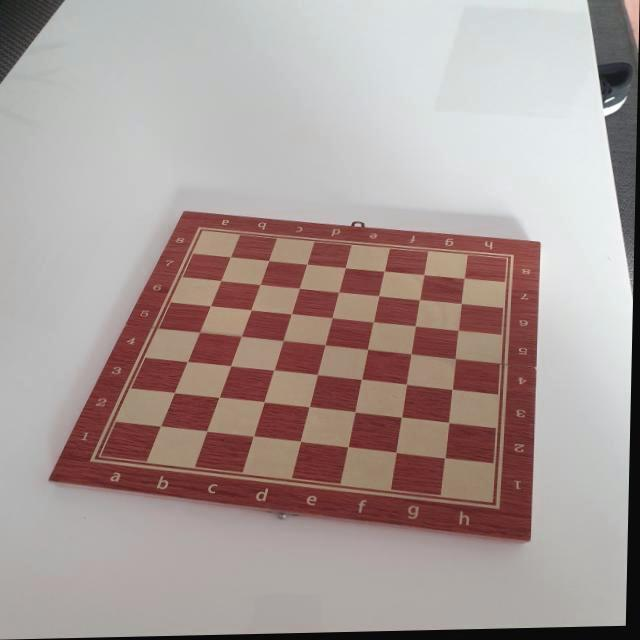chess-table-corners: (82, 447, 115, 468), (498, 248, 527, 266), (482, 500, 510, 514), (190, 222, 212, 236)
